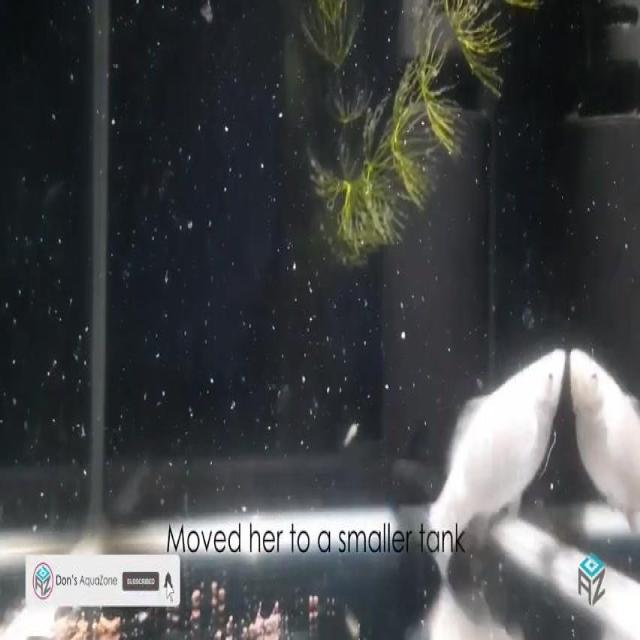PlatyFish: (400, 324, 574, 596)
